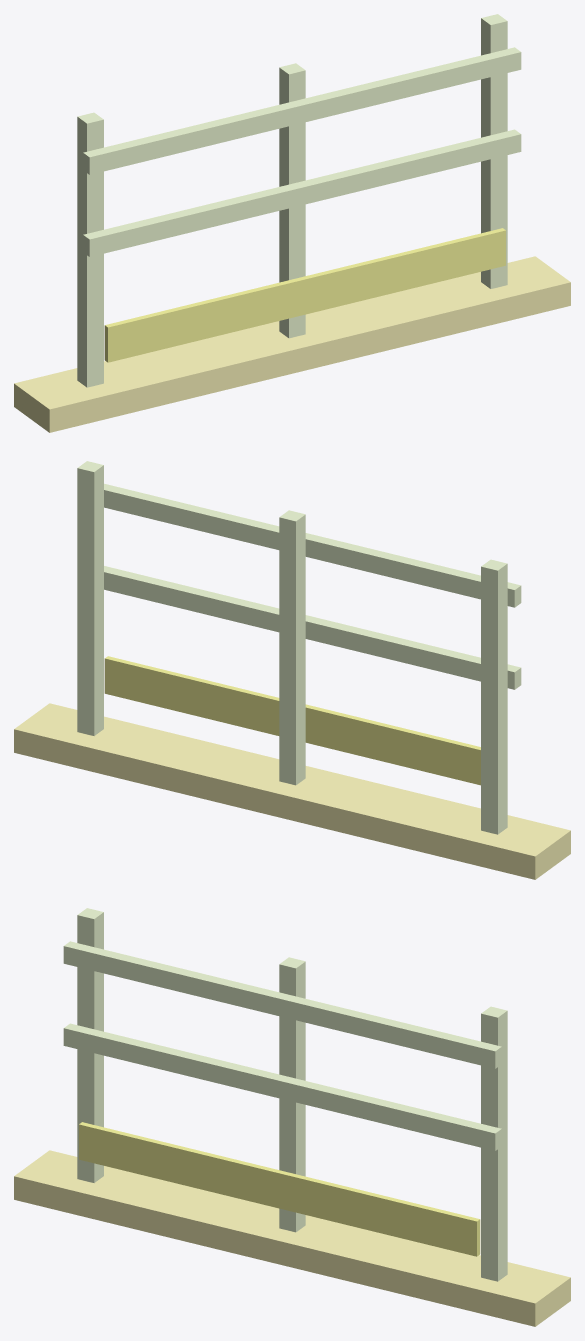
Rendered from furniture_boarding_edge_guardrail.glb.
3 views of the same model, one above another, from view 1: azimuth 30°, elevation 25°; view 2: azimuth 150°, elevation 25°; view 3: azimuth 330°, elevation 25° (orthographic).
Visible parts, largest first — view 1: base, kick_plate, rail_mid, rail_upper, post_left, post_right, post_center; view 2: base, kick_plate, rail_upper, rail_mid, post_left, post_center, post_right; view 3: base, kick_plate, rail_mid, rail_upper, post_right, post_left, post_center.
Boxes of the visible parts, box(x1,y1,x2,y2) form: base: box(14, 256, 570, 432); kick_plate: box(104, 228, 505, 362); rail_mid: box(83, 129, 521, 256); rail_upper: box(83, 47, 521, 174); post_left: box(77, 112, 103, 387); post_right: box(481, 14, 507, 288); post_center: box(279, 63, 305, 338); base: box(14, 703, 570, 879); kick_plate: box(104, 656, 480, 785); rail_upper: box(104, 483, 521, 607); rail_mid: box(104, 566, 521, 689); post_left: box(481, 559, 507, 834); post_center: box(279, 510, 305, 785); post_right: box(77, 461, 103, 735); base: box(14, 1150, 570, 1326); kick_plate: box(79, 1122, 480, 1256); rail_mid: box(63, 1023, 501, 1150); rail_upper: box(63, 941, 501, 1068); post_right: box(481, 1006, 507, 1281); post_left: box(77, 908, 103, 1182); post_center: box(279, 957, 305, 1232).
Size of the model in its own units: 1.86 by 0.98 by 0.22.
